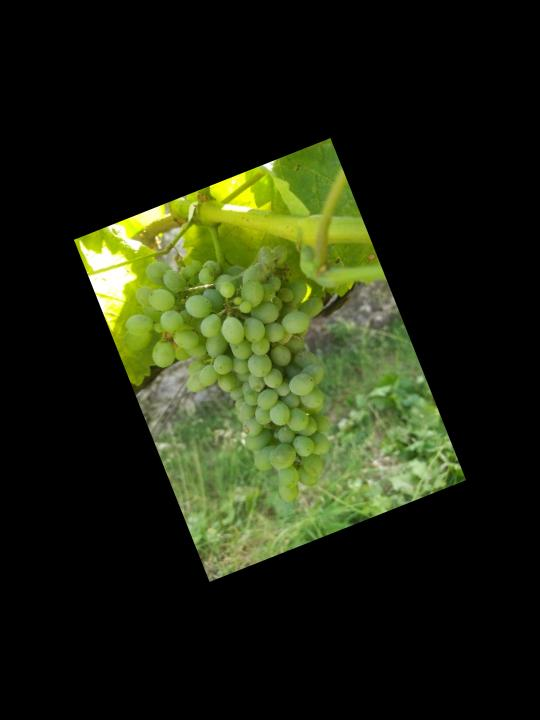grape: (95, 204, 393, 543)
